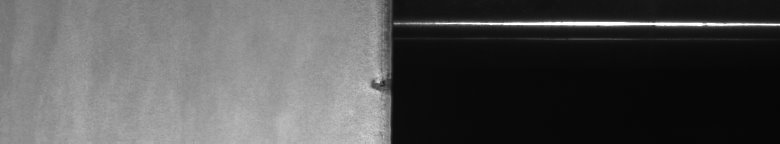hb: (363, 40, 380, 100)
